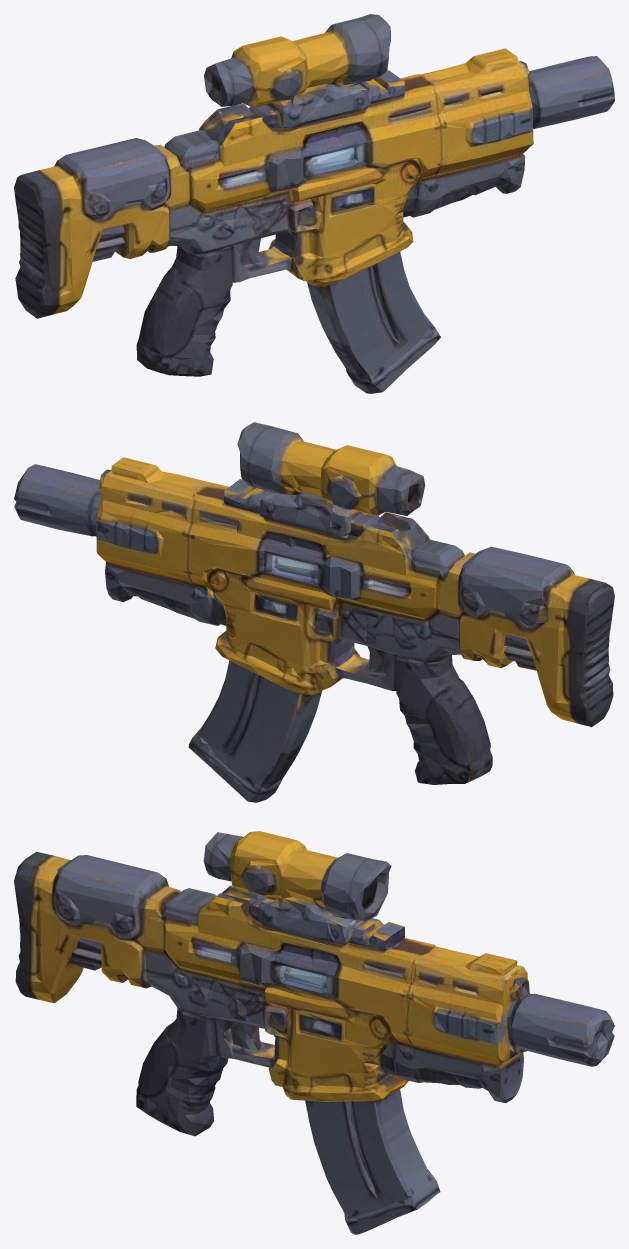
File: pf-w-pulse-carbine.glb
3 renders of one model, top to bottom at view 1: azimuth 30°, elevation 25°; view 2: azimuth 150°, elevation 25°; view 3: azimuth 330°, elevation 25°, orthographic.
Parts seen in each view (by area): view 1: tmp6fvbmniv.ply; view 2: tmp6fvbmniv.ply; view 3: tmp6fvbmniv.ply.
Part boxes in pixels (x1=…): tmp6fvbmniv.ply: x1=14, y1=14, x2=614, y2=393; tmp6fvbmniv.ply: x1=14, y1=422, x2=614, y2=802; tmp6fvbmniv.ply: x1=14, y1=831, x2=614, y2=1234.
Bounding box in the file's own units: 0.85 × 0.5165 × 0.0977.
1 material, 1 textured.
